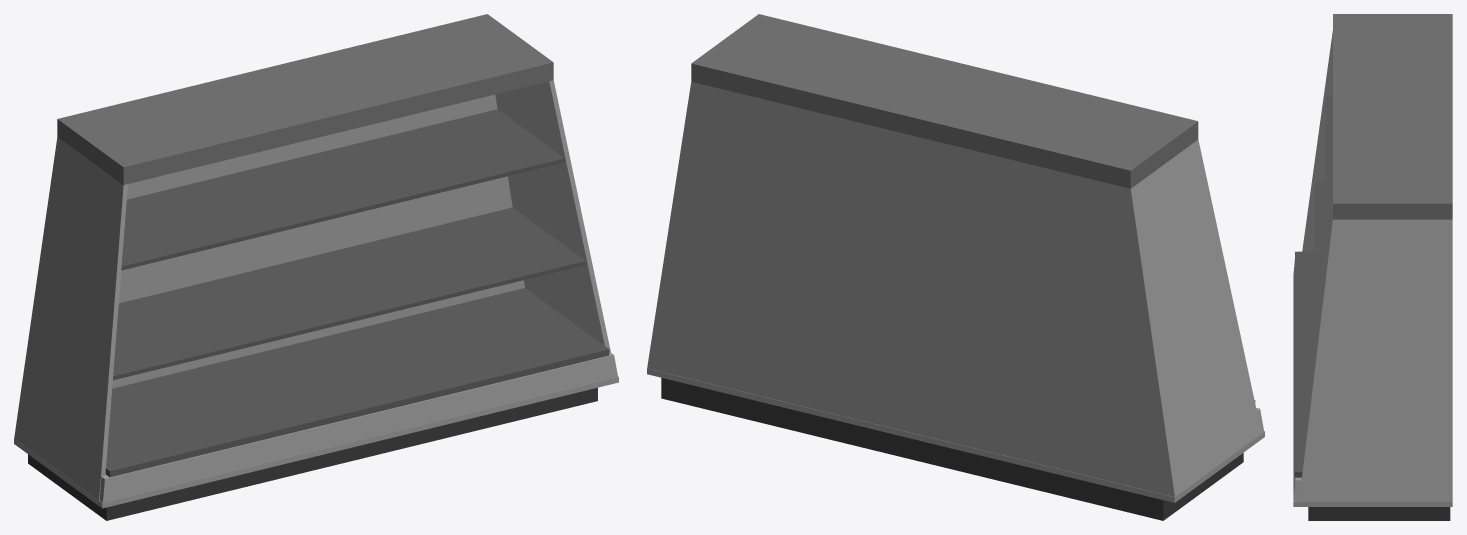
File: Cleaner Fluid Shelving #2.fbx
The picture shows the model from 3 angles, left to right: view 1: azimuth 30°, elevation 25°; view 2: azimuth 150°, elevation 25°; view 3: azimuth 270°, elevation 25°; orthographic projection. The views are drawn at different scales.
Parts seen in each view (by area): view 1: Cleaner Fluid Shelving #2; view 2: Cleaner Fluid Shelving #2; view 3: Cleaner Fluid Shelving #2.
Part boxes in pixels (box(x1,y1,x2,y2)): Cleaner Fluid Shelving #2: box(14, 14, 618, 520); Cleaner Fluid Shelving #2: box(647, 14, 1264, 520); Cleaner Fluid Shelving #2: box(1293, 14, 1452, 520).
Size of the model in its own units: 246 by 153 by 72.77.
Materials: 1 (1 with a texture image).
